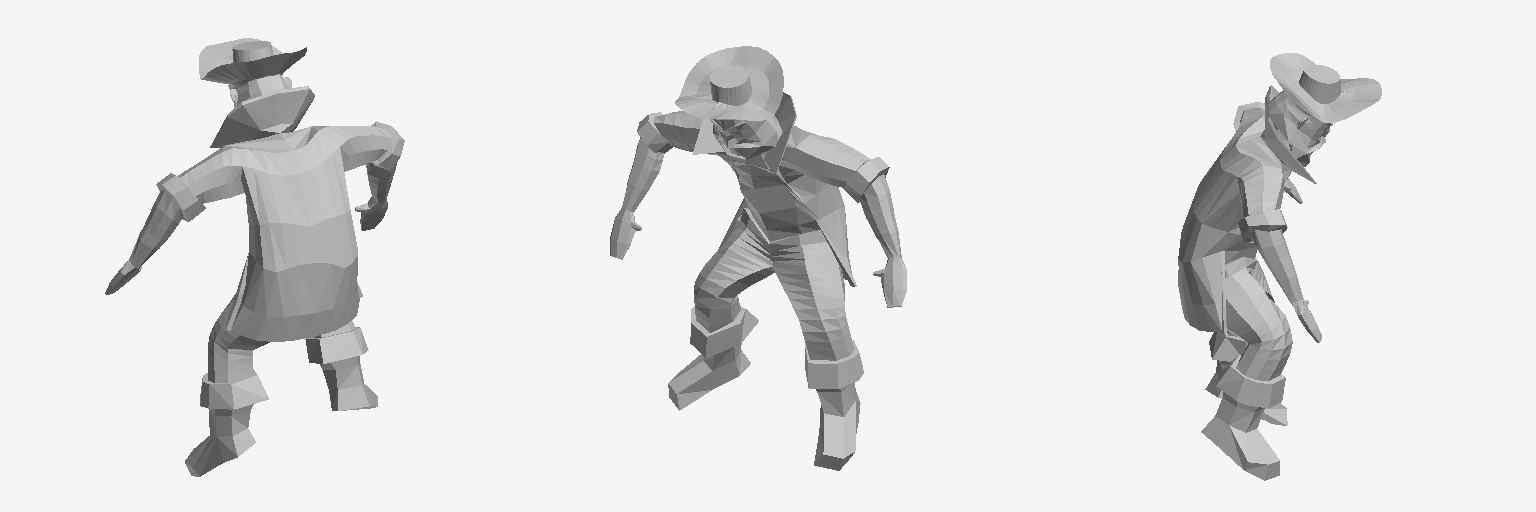
File: pirata_000169.obj
3 views of the same model, side by side, from view 1: azimuth 30°, elevation 25°; view 2: azimuth 150°, elevation 25°; view 3: azimuth 270°, elevation 25° (orthographic).
Parts seen in each view (by area): view 1: Pirata_PirataH; view 2: Pirata_PirataH; view 3: Pirata_PirataH.
Part boxes in pixels (left/top/right/bottom): Pirata_PirataH: left=105, top=38, right=404, bottom=476; Pirata_PirataH: left=610, top=46, right=906, bottom=470; Pirata_PirataH: left=1178, top=53, right=1381, bottom=480.
Bounding box in the file's own units: 7.1 × 9.58 × 4.41.